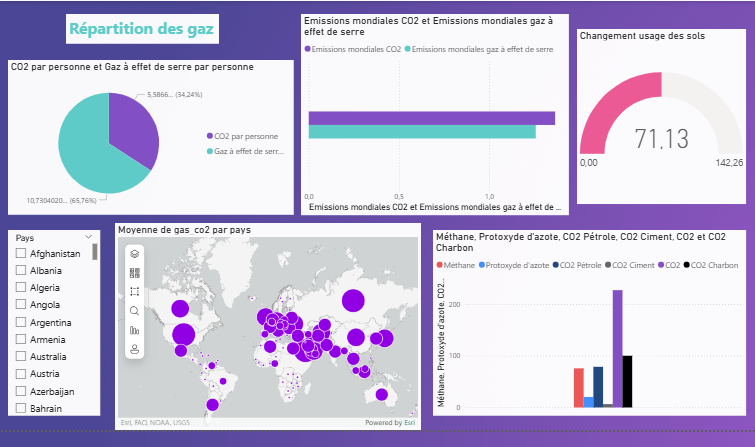

The page's visual inventory and layout, read from the dashboard file:
{"tool":"powerbi","page":{"name":"Répartition  des gaz","canvas":[1280,720],"ordinal":0},"visuals":[{"type":"clusteredColumnChart","fields":{"Y":["Avg(Emissions CO2.methane)","Avg(Emissions CO2.nitrous_oxide)","Avg(Emissions CO2.oil_co2)","Avg(Emissions CO2.cement_co2)","Avg(Emissions CO2.co2)","Avg(Emissions CO2.coal_co2)"]},"box":[735.7,384.7,525.8,312.4],"z":0},{"type":"slicer","fields":{"Values":["Emissions CO2.country"]},"box":[21.8,384.7,154.5,312.4],"z":1000},{"type":"pieChart","fields":{"Y":["Avg(Emissions CO2.co2_per_capita)","Avg(Emissions CO2.ghg_per_capita)"]},"box":[21.8,99.1,480.4,260.4],"z":2000},{"type":"gauge","fields":{"Y":["Avg(Emissions CO2.land_use_change_co2)"]},"box":[977.6,47,283.9,294],"z":3000},{"type":"clusteredBarChart","fields":{"Y":["Avg(Emissions CO2.share_global_co2)","Avg(Emissions CO2.share_of_temperature_change_from_ghg)"]},"box":[514,21.8,450.2,337.6],"z":4000},{"type":"textbox","box":[223.9,408.3,13.2,16.1],"z":5000},{"type":"textbox","box":[119.3,21.8,257,50.4],"z":6000},{"type":"esriVisual","fields":{"Location":["Emissions CO2.country"],"Size":["Avg(Emissions CO2.gas_co2)"]},"box":[201.6,372.9,514,347.7],"z":7000}]}

Visuals, with their boxes in screenshot pixels (x1, y1, x2, y2):
clusteredColumnChart - Avg(Emissions CO2.methane) x Avg(Emissions CO2.nitrous_oxide): <bbox>434, 228, 751, 416</bbox>
slicer - Emissions CO2.country: <bbox>3, 228, 96, 416</bbox>
pieChart - Avg(Emissions CO2.co2_per_capita) x Avg(Emissions CO2.ghg_per_capita): <bbox>3, 56, 293, 213</bbox>
gauge - Avg(Emissions CO2.land_use_change_co2): <bbox>580, 24, 751, 202</bbox>
clusteredBarChart - Avg(Emissions CO2.share_global_co2) x Avg(Emissions CO2.share_of_temperature_change_from_ghg): <bbox>300, 9, 572, 213</bbox>
textbox: <bbox>125, 242, 133, 252</bbox>
textbox: <bbox>62, 9, 217, 40</bbox>
esriVisual - Emissions CO2.country x Avg(Emissions CO2.gas_co2): <bbox>112, 221, 422, 431</bbox>
